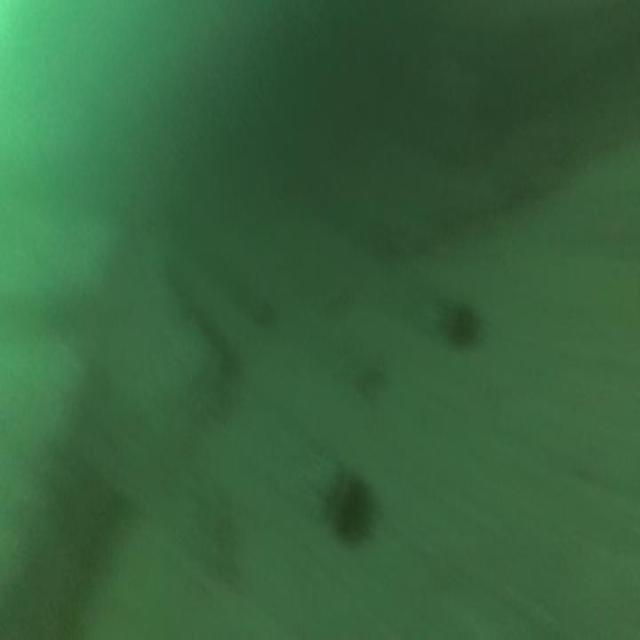echinus: (330, 480, 364, 539), (451, 303, 473, 351)
